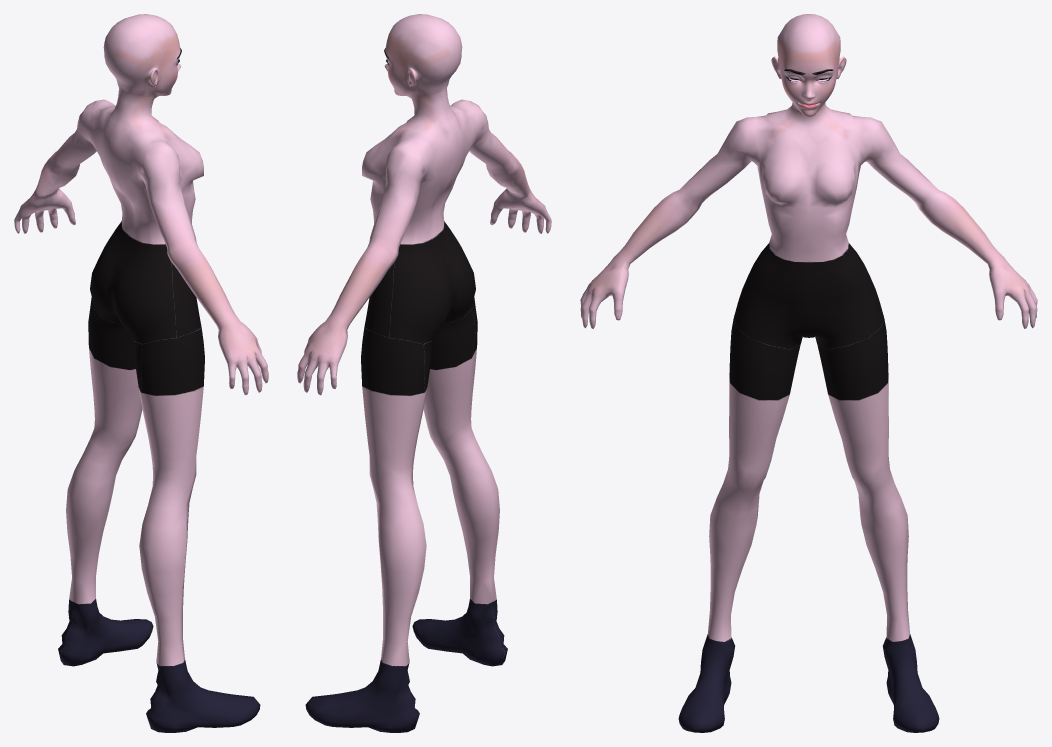
The model's file is MainChar_Body.fbx.
3 views of the same model, side by side, from view 1: azimuth 30°, elevation 25°; view 2: azimuth 150°, elevation 25°; view 3: azimuth 270°, elevation 25° (orthographic). The views are drawn at different scales.
Visible parts, largest first — view 1: Body; view 2: Body; view 3: Body.
Part boxes in pixels (x1,y1,x2,y2): Body: (14, 14, 268, 732); Body: (297, 14, 551, 732); Body: (580, 14, 1037, 732).
Size of the model in its own units: 0.6866 by 4.36 by 2.62.
Materials: 1 (1 with a texture image).
